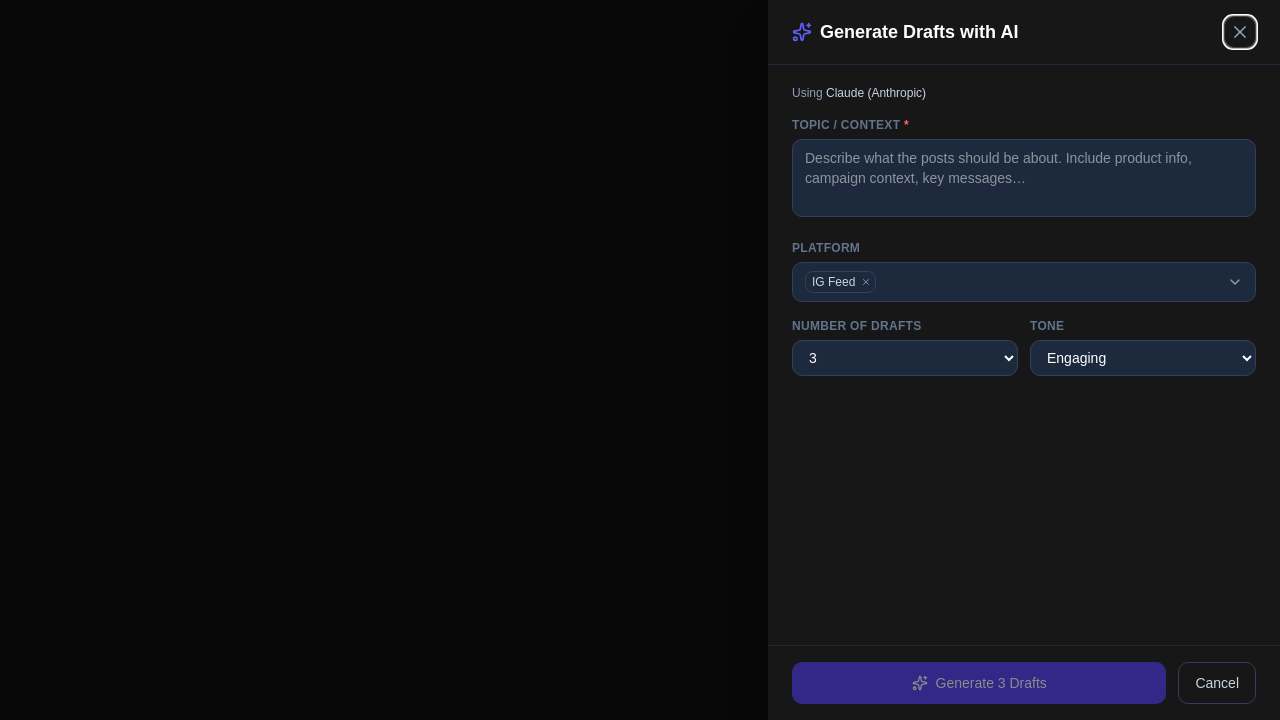
Test: AiDraftGenerator › shows the single connected provider and gates generate on a topic
Expected: the text "Claude (Anthropic)" is shown, [826,86,926,100]
Expected: the button "Generate 3 Drafts" is disabled, [792,662,1166,704]
Type "Summer sale" into the text box labelled "Topic / Context *" at (1024, 178), box [792,139,1256,217]
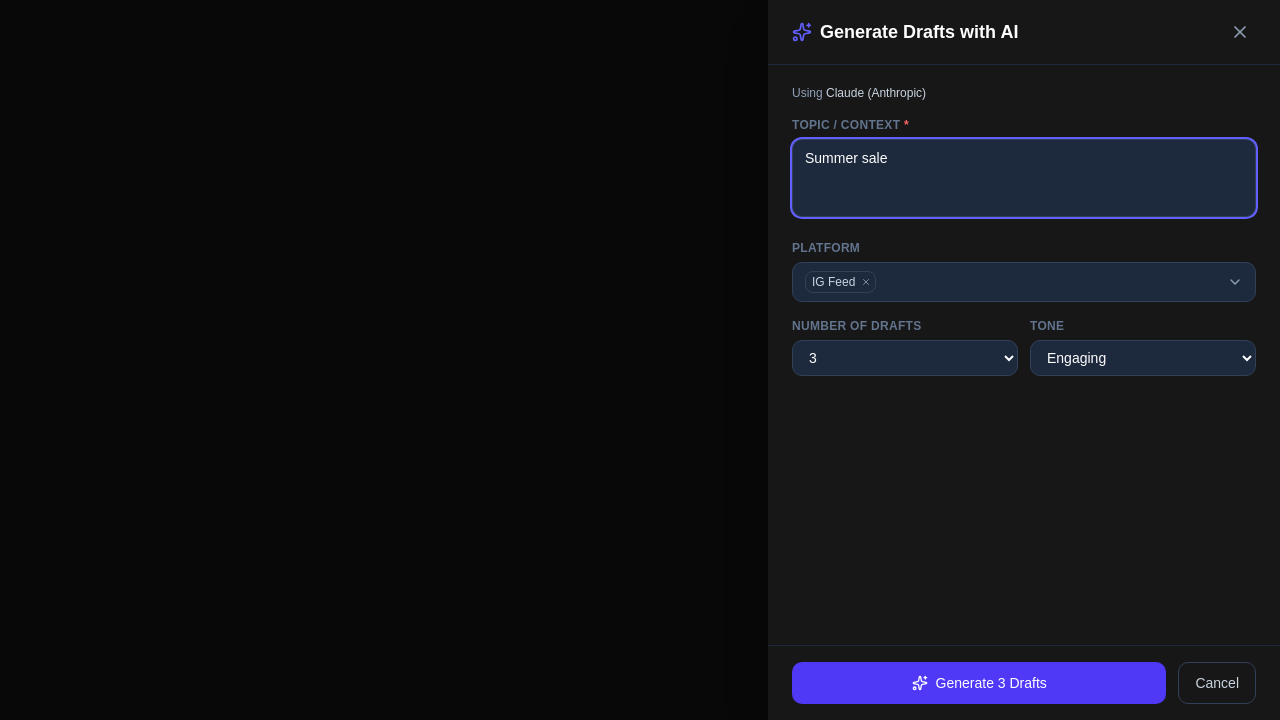
Now the button "Generate 3 Drafts" is enabled, box [792,662,1166,704]
